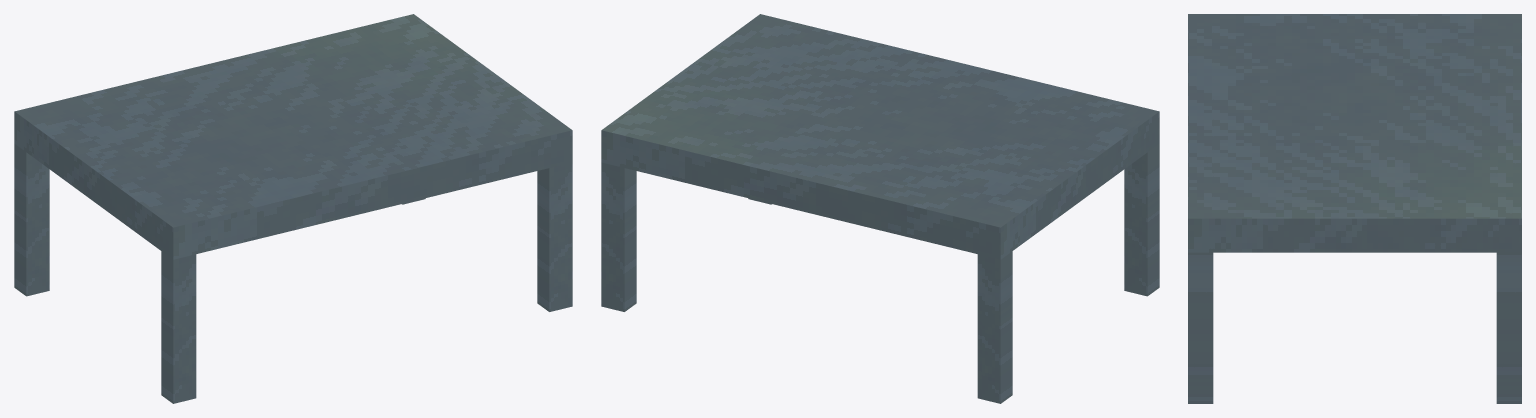
The model's file is Mesa.glb.
The picture shows the model from 3 angles, left to right: view 1: azimuth 30°, elevation 25°; view 2: azimuth 150°, elevation 25°; view 3: azimuth 270°, elevation 25°; orthographic projection. The views are drawn at different scales.
Parts seen in each view (by area): view 1: Mesa; view 2: Mesa; view 3: Mesa.
Boxes of the visible parts, x1=… form: Mesa: x1=14, y1=14, x2=572, y2=403; Mesa: x1=601, y1=14, x2=1159, y2=403; Mesa: x1=1188, y1=14, x2=1521, y2=403.
Size of the model in its own units: 10.31 by 4.35 by 7.1.
Materials: 1 (1 with a texture image).
